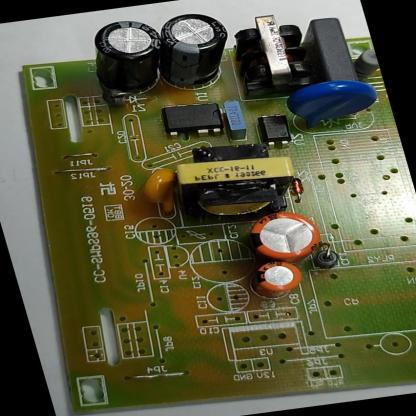Cap1: (237, 205, 335, 271)
Cap2: (239, 256, 311, 304)
Cap3: (144, 7, 250, 97)
Cap4: (74, 13, 178, 104)
MOSFET: (152, 97, 235, 146)
Mov: (275, 74, 390, 137)
Resistor: (344, 47, 382, 83)
Transformer: (154, 137, 309, 232), (221, 8, 330, 102)
